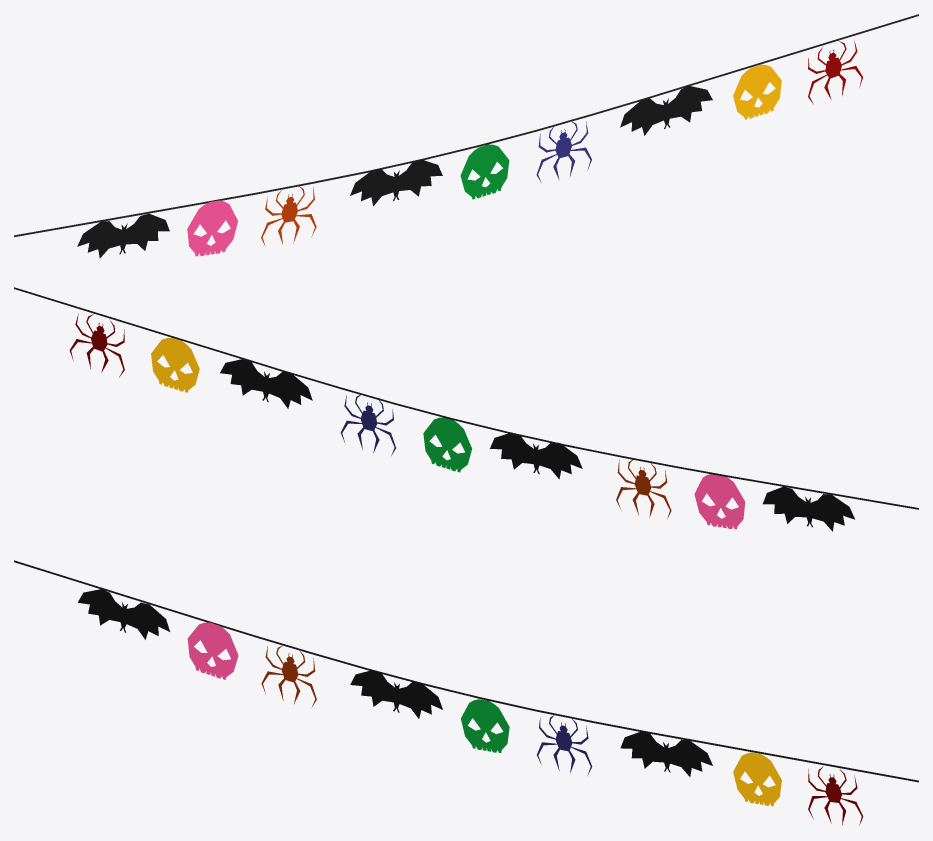
File: HWN20_Pennants.glb
3 renders of one model, top to bottom at view 1: azimuth 30°, elevation 25°; view 2: azimuth 150°, elevation 25°; view 3: azimuth 330°, elevation 25°, orthographic.
Visible parts, largest first — view 1: HWN20_Pennants; view 2: HWN20_Pennants; view 3: HWN20_Pennants.
Part boxes in pixels (x1=…): HWN20_Pennants: x1=14, y1=14, x2=918, y2=258; HWN20_Pennants: x1=14, y1=287, x2=918, y2=531; HWN20_Pennants: x1=14, y1=560, x2=918, y2=825.
Size of what is drawn, in the model's own units: 6.2 by 0.5192 by 0.00691.
2 materials, 2 textured.
